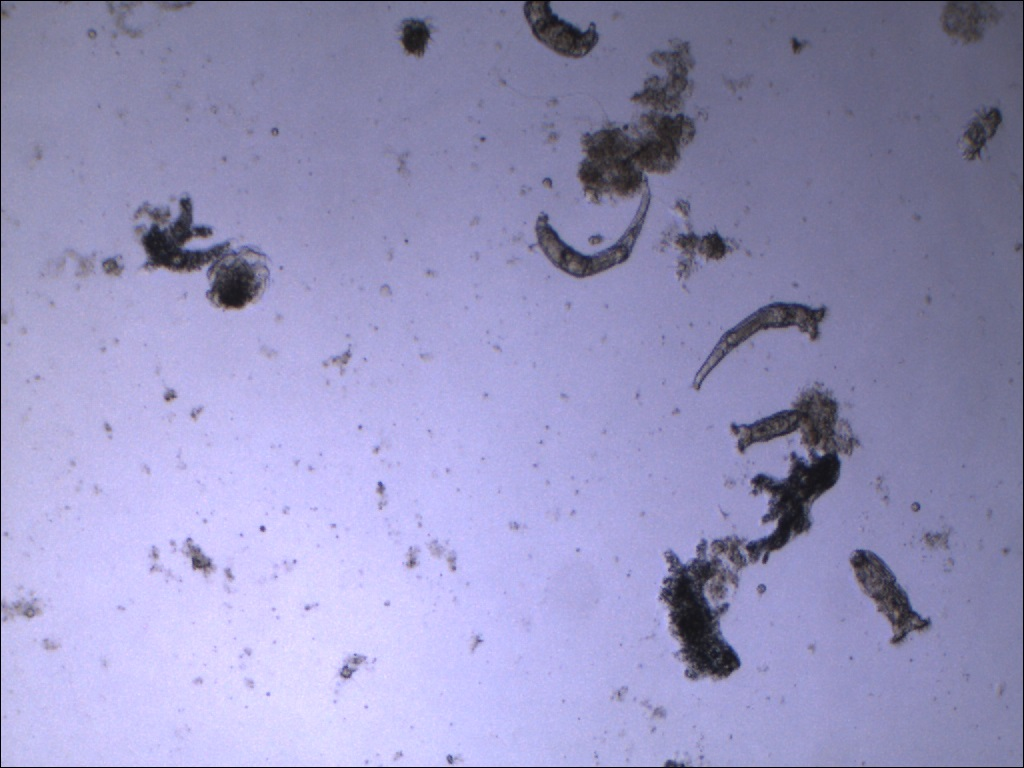amoeba: (656, 537, 747, 688), (742, 446, 846, 569), (136, 188, 232, 273)
